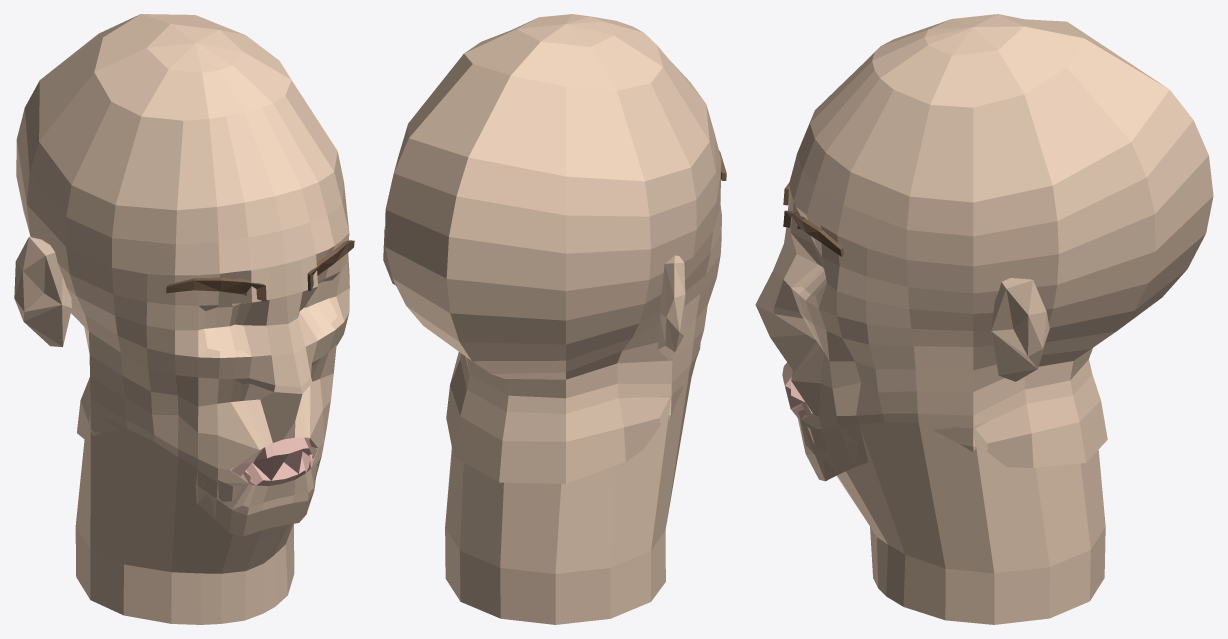
File: head_tpl_v2.glb
3 renders of one model, left to right at view 1: azimuth 30°, elevation 25°; view 2: azimuth 150°, elevation 25°; view 3: azimuth 270°, elevation 25°, orthographic.
Visible parts, largest first — view 1: Head_Main, Ears, Eyebrow_R, Eyebrow_L; view 2: Head_Main, Ears; view 3: Head_Main, Ears, Eyebrow_L.
Part boxes in pixels (box(x1,y1,x2,y2)): Head_Main: box(16, 14, 349, 624); Ears: box(14, 237, 71, 347); Eyebrow_R: box(166, 277, 266, 301); Eyebrow_L: box(307, 240, 354, 291); Head_Main: box(385, 14, 721, 624); Ears: box(383, 226, 685, 360); Head_Main: box(755, 14, 1213, 624); Ears: box(991, 278, 1049, 381); Eyebrow_L: box(783, 210, 843, 256).
Bounding box in the file's own units: 0.1635 × 0.2886 × 0.2172.
